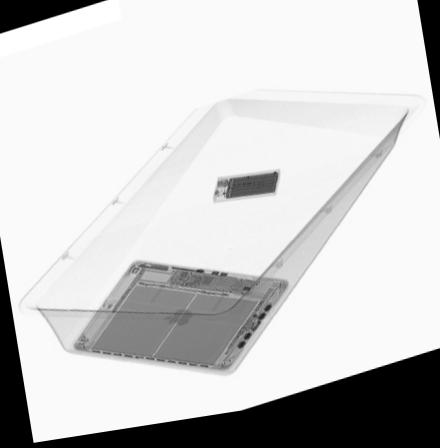Powerbank: (212, 177, 281, 210)
